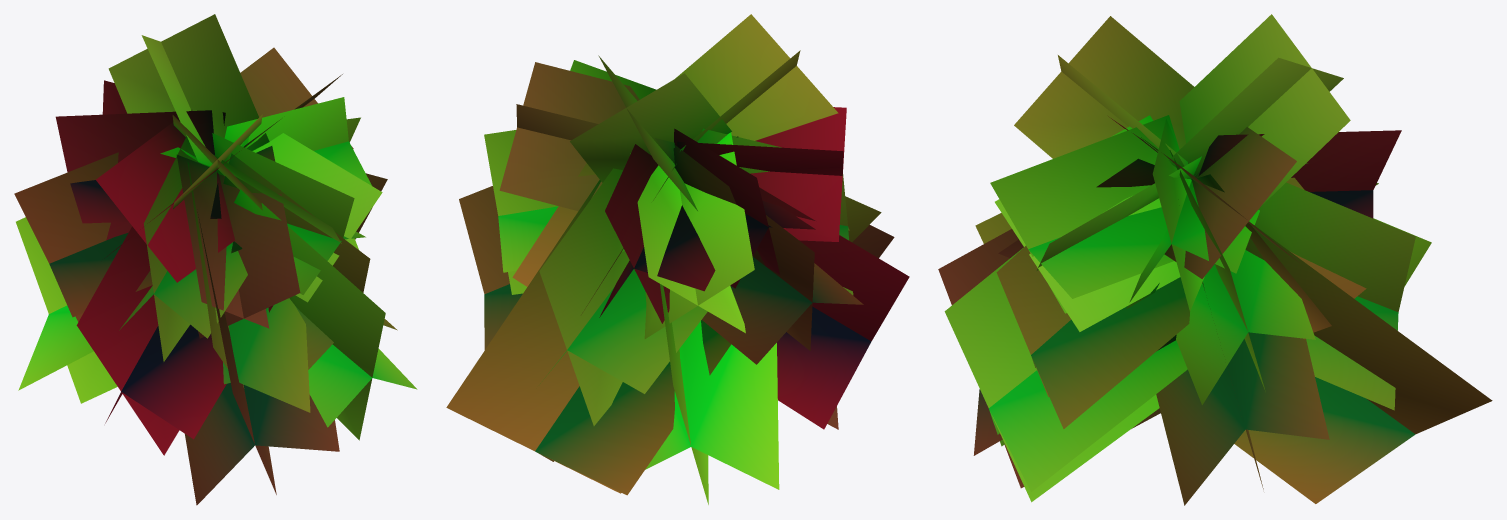
The model's file is Super_11_6.fbx.
3 views of the same model, side by side, from view 1: azimuth 30°, elevation 25°; view 2: azimuth 150°, elevation 25°; view 3: azimuth 270°, elevation 25° (orthographic). The views are drawn at different scales.
Visible parts, largest first — view 1: Super_11_6; view 2: Super_11_6; view 3: Super_11_6.
Part boxes in pixels (<box>): Super_11_6: <box>14,14,417,505</box>; Super_11_6: <box>446,14,909,504</box>; Super_11_6: <box>938,14,1492,505</box>.
Size of the model in its own units: 1488 by 1530 by 1678.
